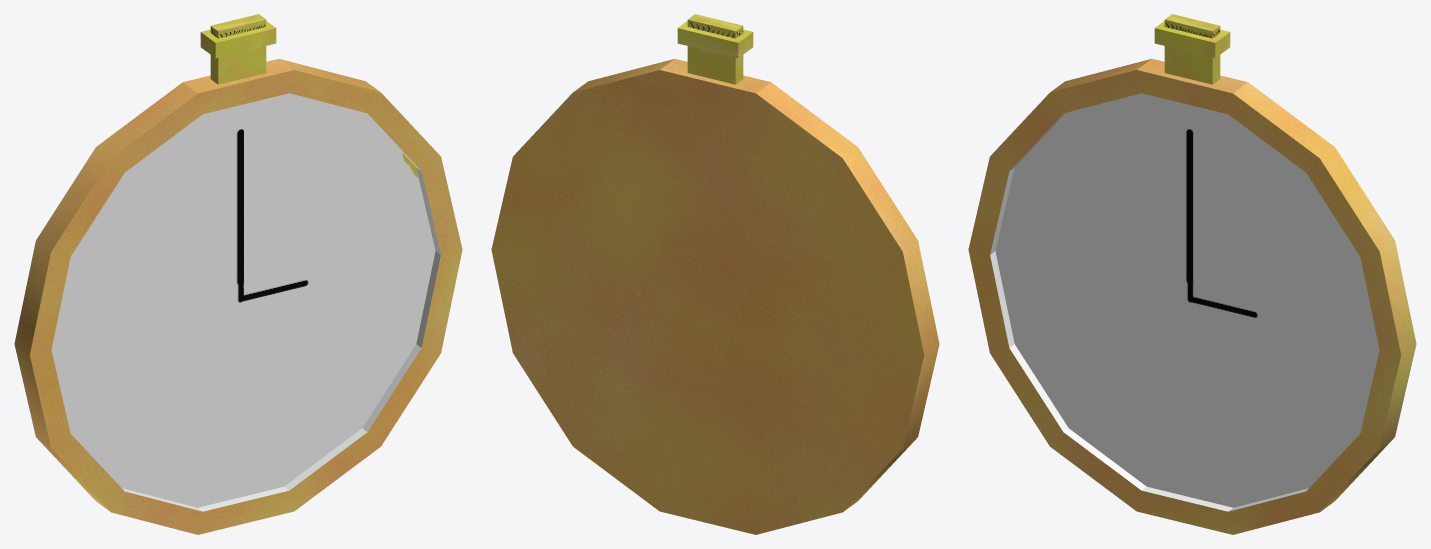
The model's file is StopWatch.fbx.
3 views of the same model, side by side, from view 1: azimuth 30°, elevation 25°; view 2: azimuth 150°, elevation 25°; view 3: azimuth 330°, elevation 25° (orthographic).
Visible parts, largest first — view 1: pCylinder2; view 2: pCylinder2; view 3: pCylinder2.
Boxes of the visible parts, x1,y1,x2,y2 form: pCylinder2: (14, 14, 462, 534); pCylinder2: (491, 14, 939, 534); pCylinder2: (968, 14, 1416, 534).
Bounding box in the file's own units: 0.3327 × 0.3635 × 0.0204.
